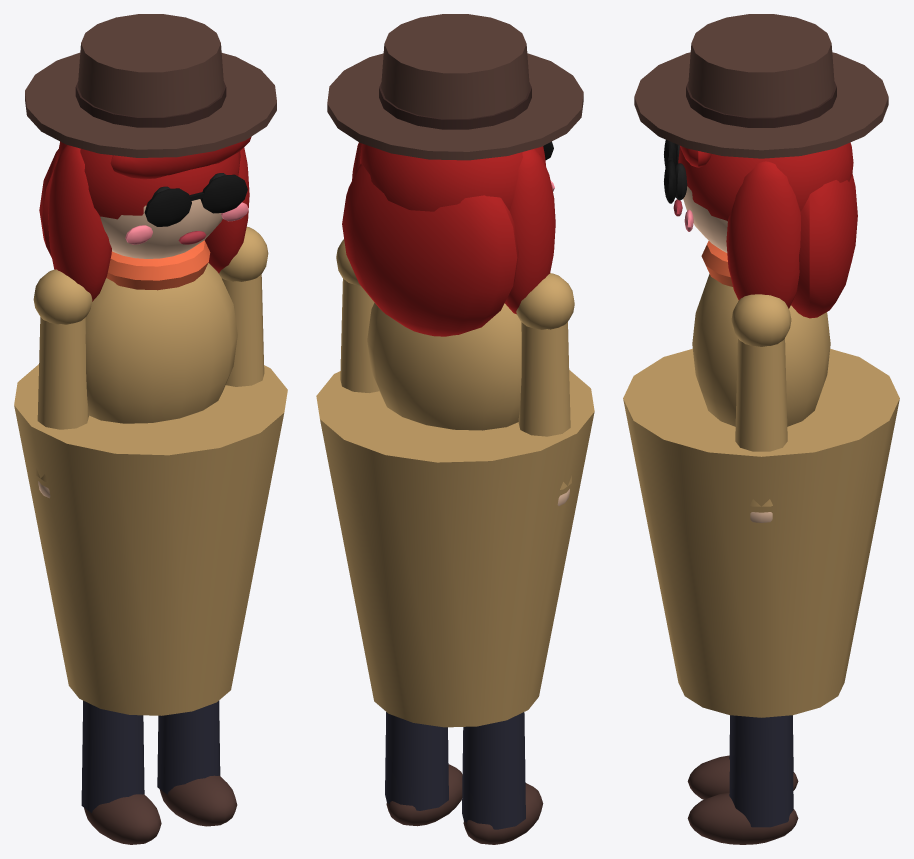
Rendered from hustle_detective.glb.
The picture shows the model from 3 angles, left to right: view 1: azimuth 30°, elevation 25°; view 2: azimuth 150°, elevation 25°; view 3: azimuth 270°, elevation 25°; orthographic projection.
Visible parts, largest first — view 1: Body.004, Leg_R.004, Arm_R.004, Leg_L.004, Arm_L.004; view 2: Body.004, Leg_R.004, Arm_R.004, Leg_L.004, Arm_L.004; view 3: Body.004, Leg_L.004, Arm_L.004, Leg_R.004.
Part boxes in pixels (<box>): Body.004: <box>14,14,287,715</box>; Leg_R.004: <box>81,700,161,844</box>; Arm_R.004: <box>33,269,92,498</box>; Leg_L.004: <box>157,700,237,826</box>; Arm_L.004: <box>219,226,268,386</box>; Body.004: <box>316,14,594,727</box>; Leg_R.004: <box>462,712,543,844</box>; Arm_R.004: <box>516,273,574,505</box>; Leg_L.004: <box>385,712,462,826</box>; Arm_L.004: <box>336,239,379,392</box>; Body.004: <box>623,14,899,717</box>; Leg_L.004: <box>687,715,798,844</box>; Arm_L.004: <box>731,294,791,522</box>; Leg_R.004: <box>687,715,798,799</box>.
Size of the model in its own units: 0.6 by 1.86 by 0.6.
